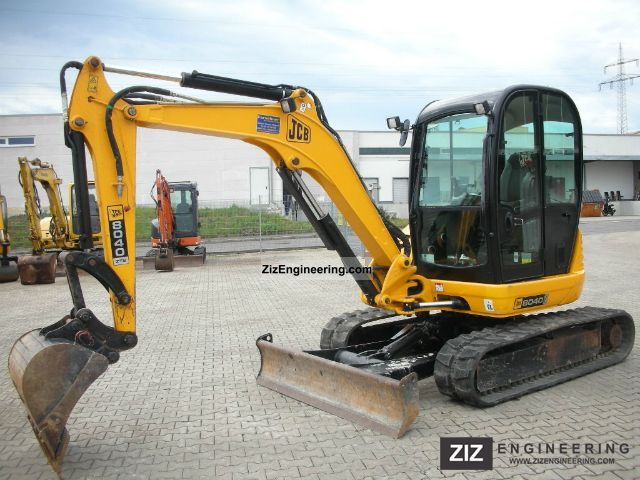backhoe: (26, 44, 639, 468)
